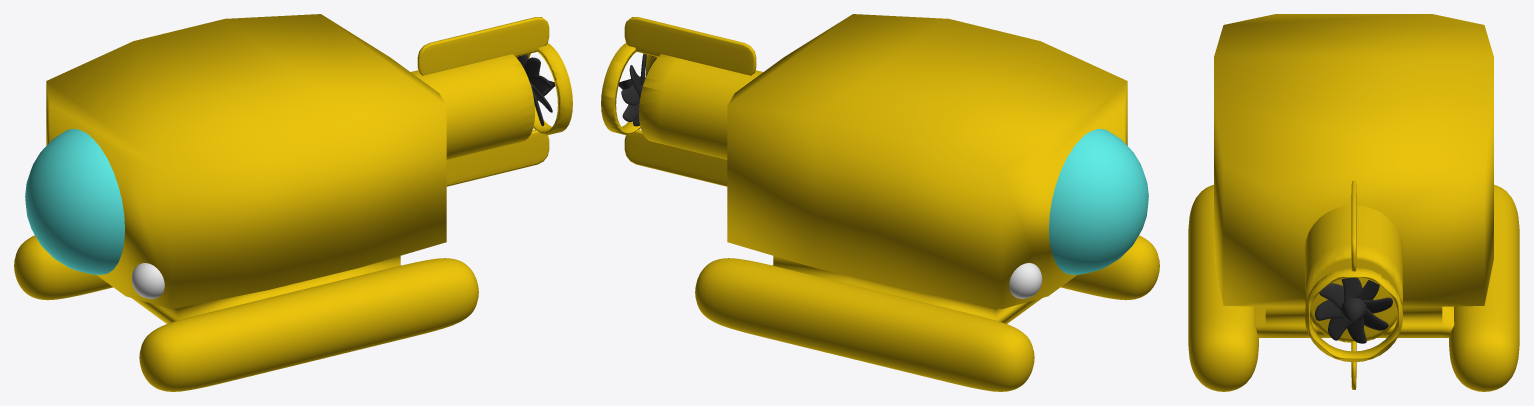
Rendered from yellow-submersible.glb.
3 views of the same model, side by side, from view 1: azimuth 30°, elevation 25°; view 2: azimuth 150°, elevation 25°; view 3: azimuth 270°, elevation 25° (orthographic). The views are drawn at different scales.
Parts seen in each view (by area): view 1: Body, Window, Prop, Lights; view 2: Body, Window, Prop, Lights; view 3: Body, Prop.
Boxes of the visible parts, x1=… form: Body: x1=14, y1=14, x2=572, y2=391; Window: x1=25, y1=128, x2=124, y2=274; Prop: x1=517, y1=54, x2=555, y2=126; Lights: x1=131, y1=263, x2=164, y2=298; Body: x1=601, y1=14, x2=1159, y2=391; Window: x1=1049, y1=128, x2=1148, y2=274; Prop: x1=618, y1=53, x2=656, y2=126; Lights: x1=1009, y1=263, x2=1042, y2=298; Body: x1=1188, y1=14, x2=1519, y2=391; Prop: x1=1315, y1=277, x2=1392, y2=343.
Bounding box in the file's own units: 8.03 × 3.41 × 4.24.
